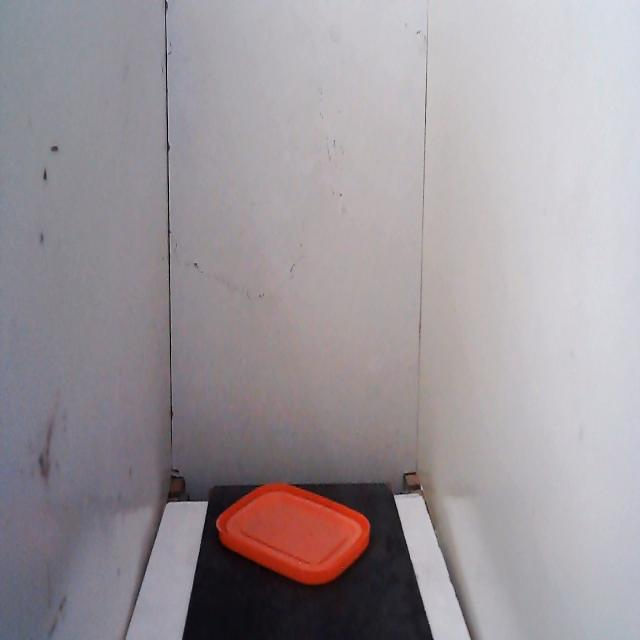plastico: (210, 460, 377, 593)
